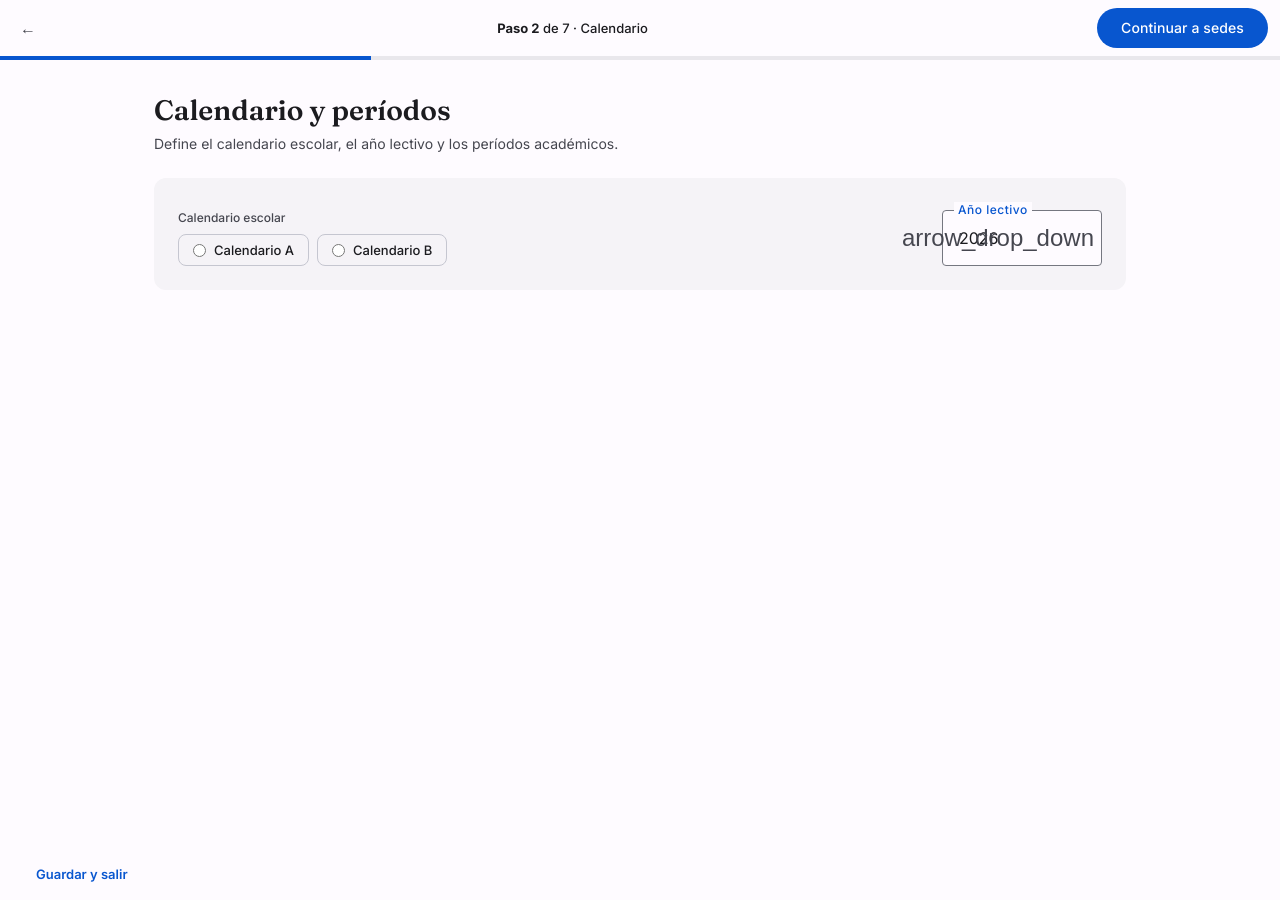
Onboarding · paso 1 (identidad) › oculta los períodos mientras no haya calendario elegido
Expected: the radio button labelled "Calendario A" is shown, [193,244,206,256]
Expected: the text "Períodos académicos precargados" is not shown
Click the radio button labelled "Calendario B" at (338, 250), box [332,244,345,256]
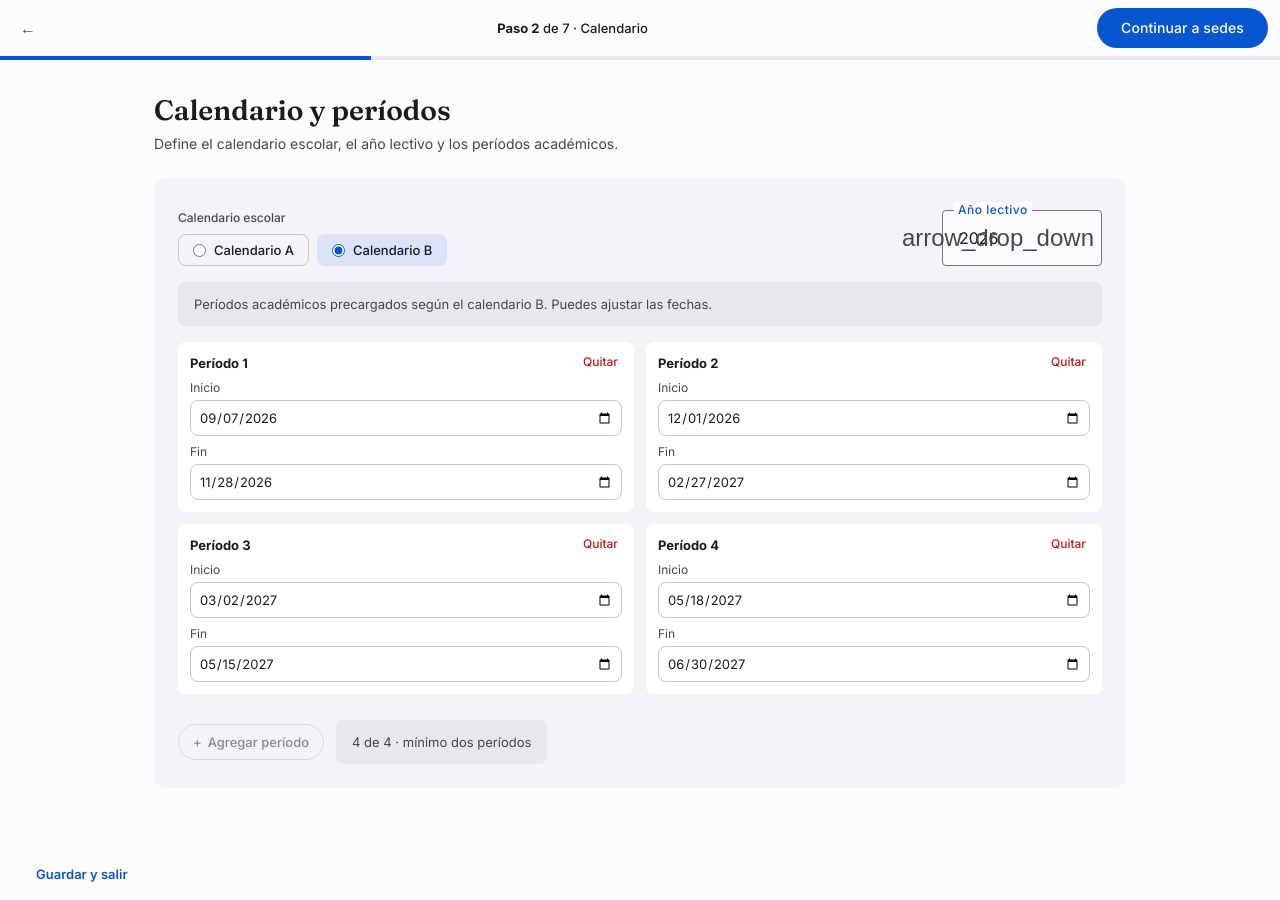
Now the text "Períodos académicos precargados" is shown, box [194,296,535,312]
Now the text "Período 4" is shown, box [658,537,719,553]
